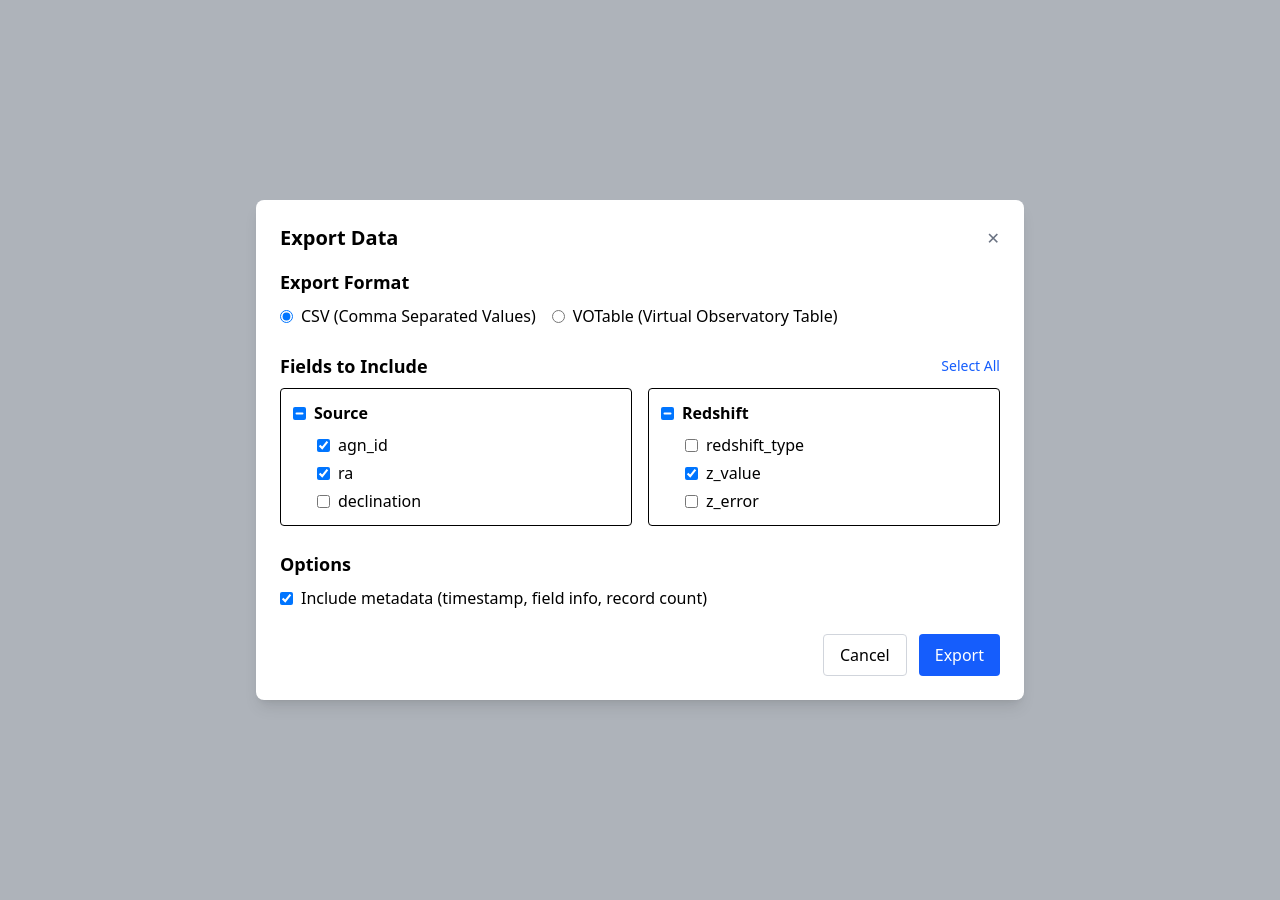
Test: ExportDialog Component › toggles category selection
Note: Click to select all in the category
Click the checkbox next to "source": (300, 413) [293,406,306,420]
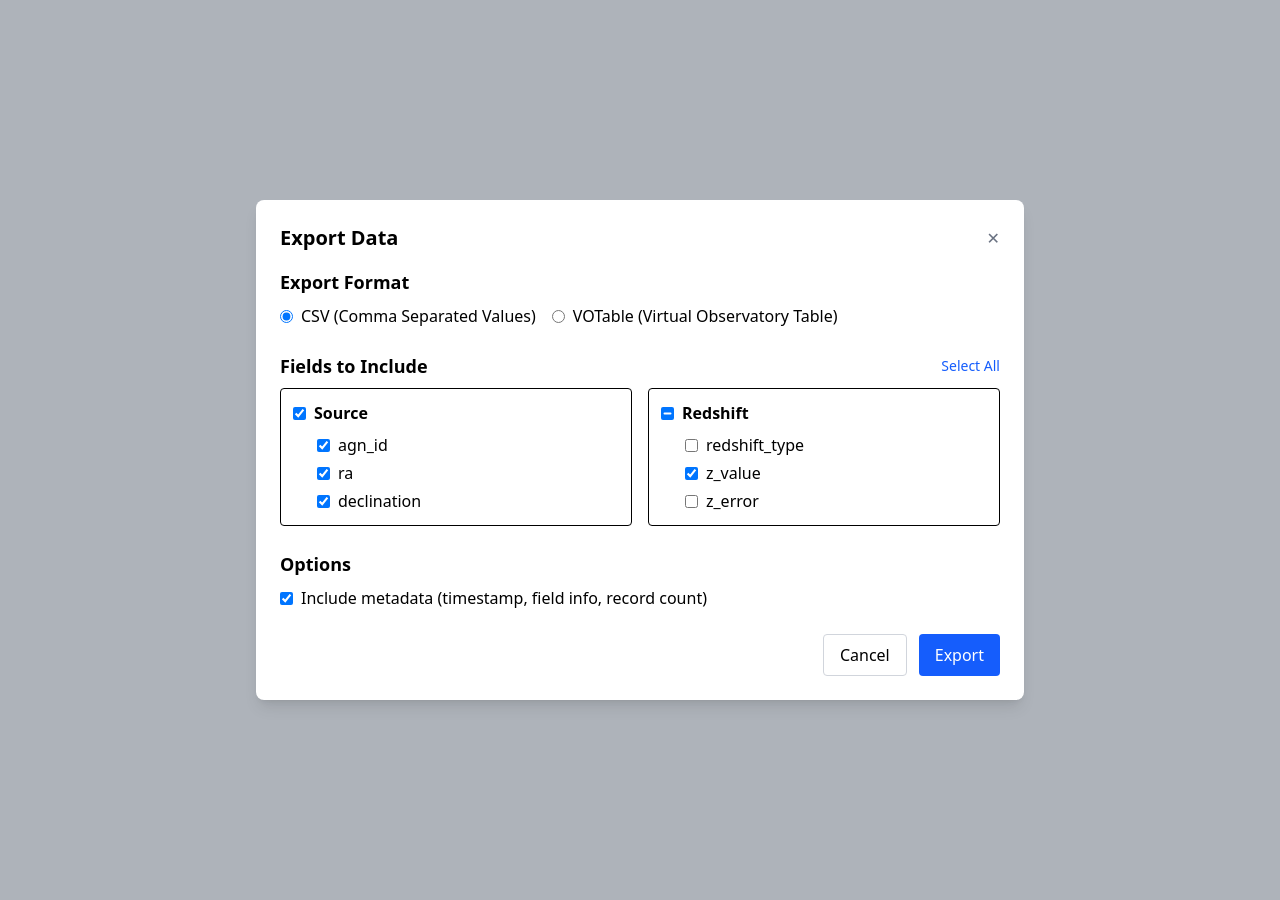
Expected: the checkbox labelled "agn_id" is checked, [317,438,330,452]
Result: the checkbox labelled "declination" is checked at [317,494,330,508]
Note: Click again to deselect all in the category
Click the checkbox next to "source": (300, 413) [293,406,306,420]
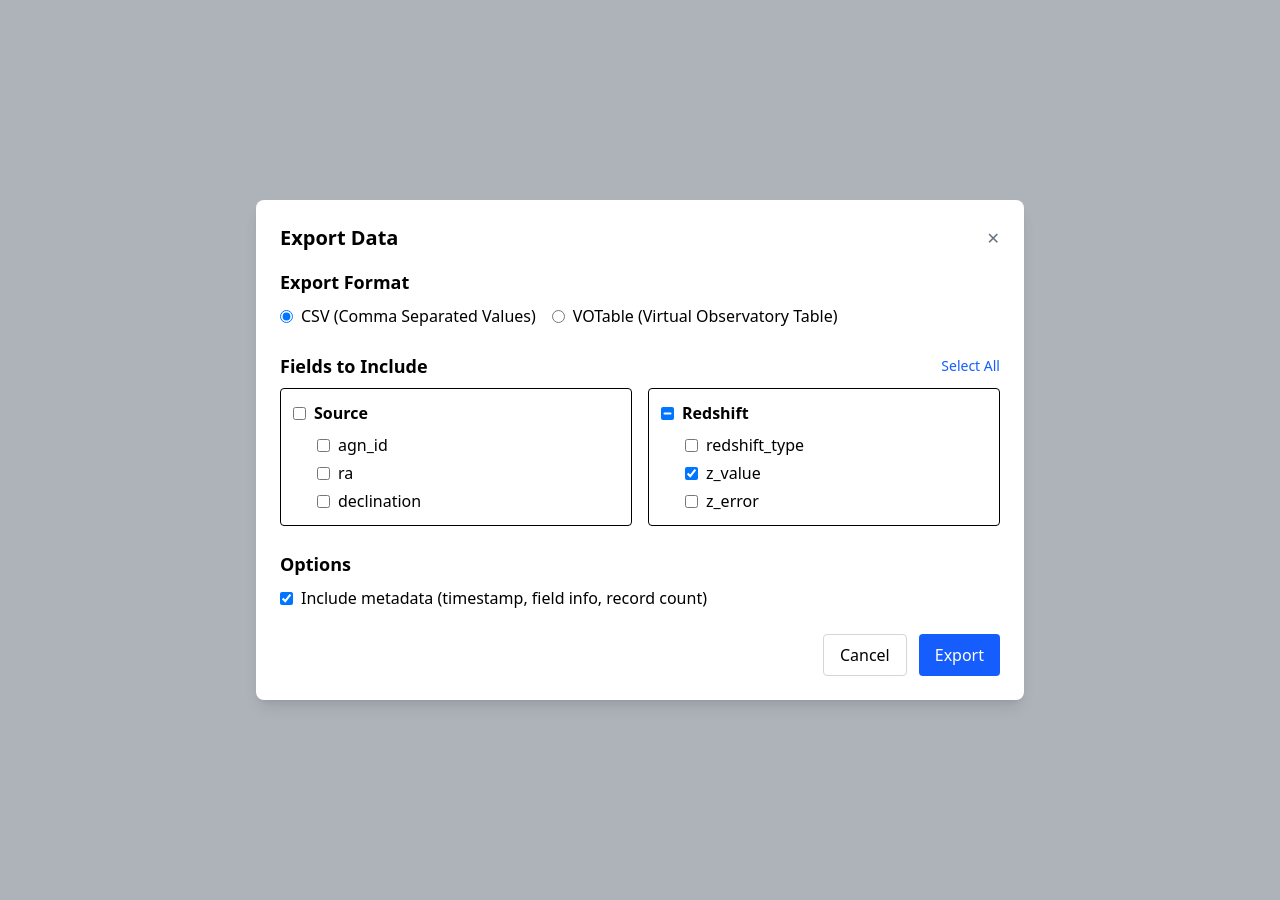
Result: the checkbox labelled "agn_id" is not checked at [317,438,330,452]
Result: the checkbox labelled "ra" is not checked at [317,466,330,480]
Result: the checkbox labelled "declination" is not checked at [317,494,330,508]
